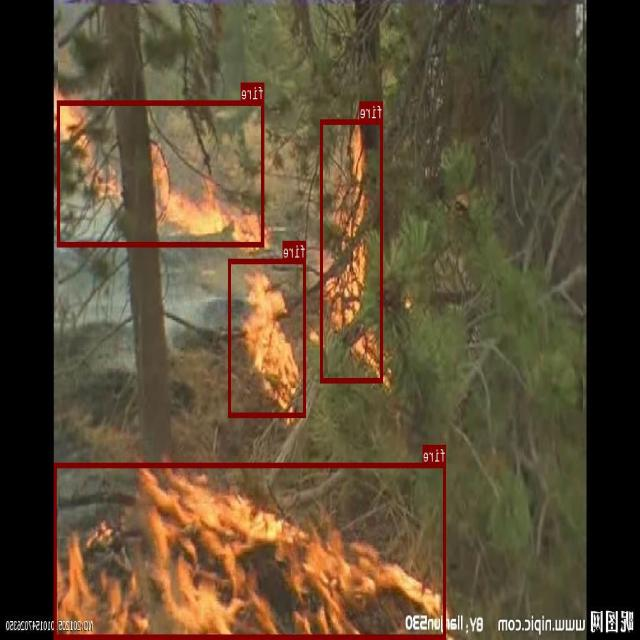fire: (55, 462, 447, 638), (58, 100, 264, 246), (321, 119, 384, 382), (229, 259, 306, 416)
